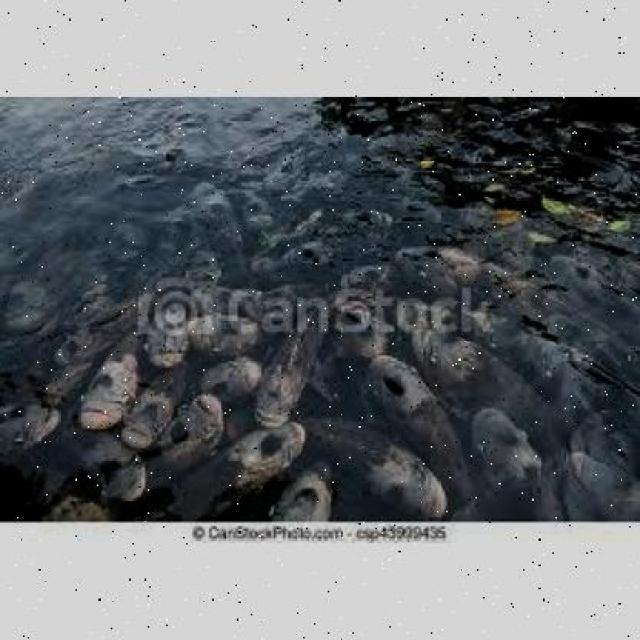gurame: (302, 419, 448, 519), (183, 428, 306, 516), (368, 356, 454, 459), (249, 300, 320, 423), (411, 328, 522, 402), (120, 366, 186, 449), (76, 340, 133, 423), (80, 433, 154, 496), (170, 390, 224, 475), (0, 395, 58, 459), (135, 306, 194, 362), (183, 313, 251, 355)
